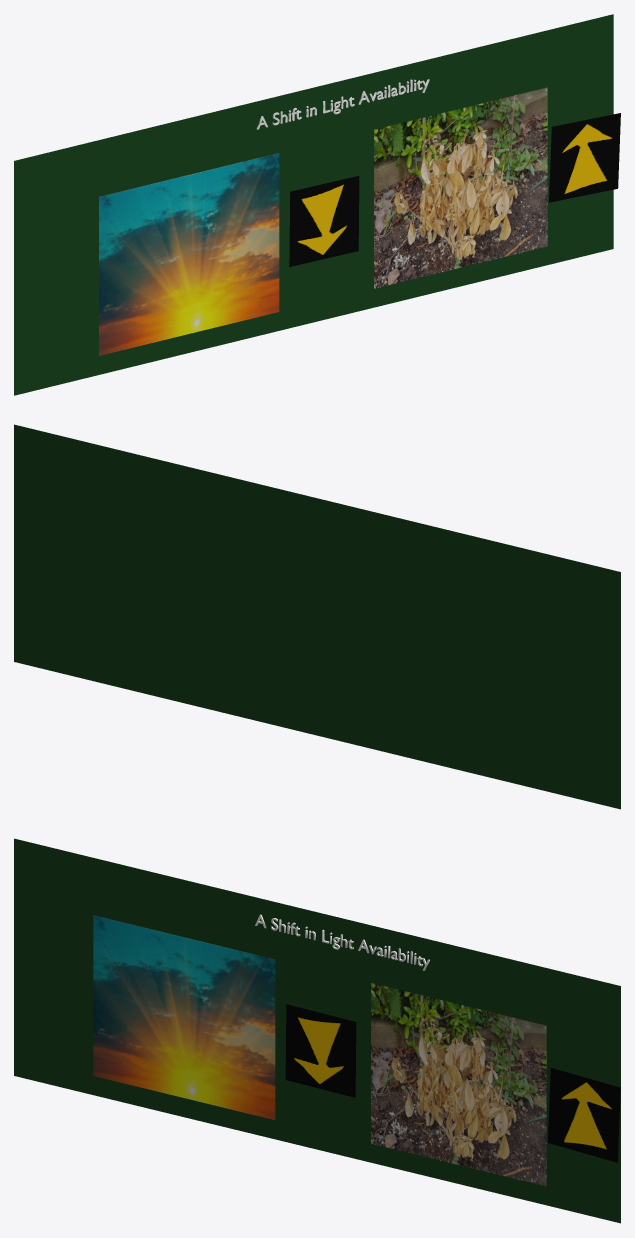
Rendered from cons4.gltf.
3 views of the same model, one above another, from view 1: azimuth 30°, elevation 25°; view 2: azimuth 150°, elevation 25°; view 3: azimuth 330°, elevation 25° (orthographic).
Visible parts, largest first — view 1: Plane.013, Plane, Plane.001, Plane.003, Plane.002, Text.008; view 2: Plane.013; view 3: Plane.013, Plane, Plane.001, Plane.003, Plane.002, Text.008.
Boxes of the visible parts, bbox=[...] form: Plane.013: bbox=[14, 14, 613, 395]; Plane: bbox=[99, 153, 279, 355]; Plane.001: bbox=[374, 87, 547, 288]; Plane.003: bbox=[549, 113, 620, 202]; Plane.002: bbox=[289, 176, 359, 266]; Text.008: bbox=[257, 79, 429, 129]; Plane.013: bbox=[14, 424, 620, 809]; Plane.013: bbox=[14, 838, 620, 1223]; Plane: bbox=[93, 915, 275, 1119]; Plane.001: bbox=[371, 983, 546, 1186]; Plane.003: bbox=[548, 1068, 620, 1162]; Plane.002: bbox=[285, 1004, 356, 1097]; Text.008: bbox=[255, 914, 429, 970].
Bounding box in the file's own units: 16.03 × 5.96 × 0.1767.
Materials: 6 (4 with a texture image).
